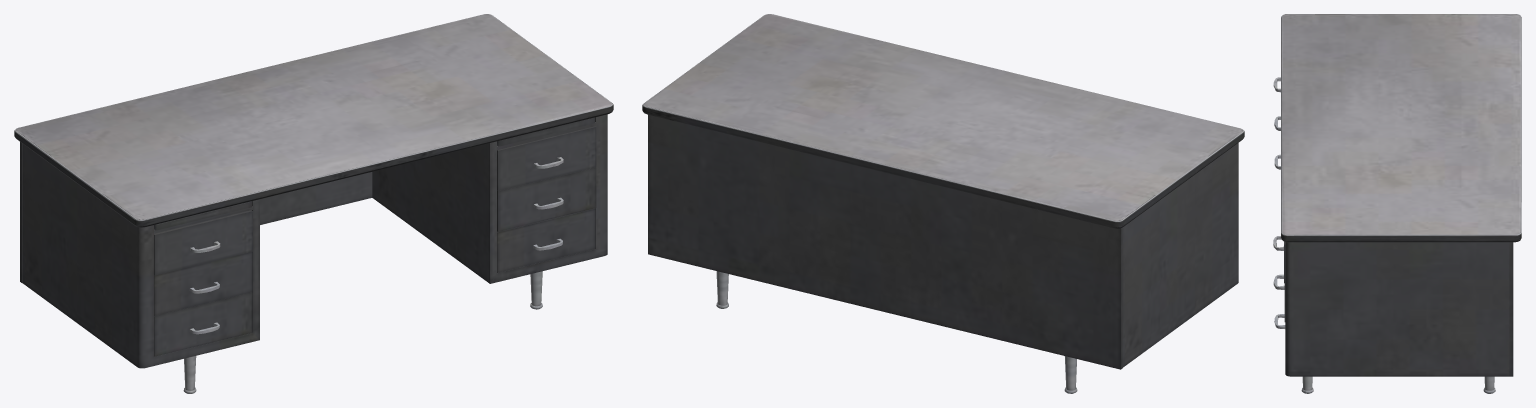
File: metal_office_desk.glb
3 renders of one model, left to right at view 1: azimuth 30°, elevation 25°; view 2: azimuth 150°, elevation 25°; view 3: azimuth 270°, elevation 25°, orthographic. The views are drawn at different scales.
Visible parts, largest first — view 1: metal_office_desk, metal_office_desk_drawer_04, metal_office_desk_drawer_01, metal_office_desk_drawer_02, metal_office_desk_drawer_03, metal_office_desk_drawer_06, metal_office_desk_drawer_05, metal_office_desk_tray_01, metal_office_desk_tray_02; view 2: metal_office_desk; view 3: metal_office_desk.
Boxes of the visible parts, left/top/right/bottom form: metal_office_desk: left=14, top=14, right=613, bottom=393; metal_office_desk_drawer_04: left=154, top=210, right=252, bottom=275; metal_office_desk_drawer_01: left=497, top=126, right=596, bottom=191; metal_office_desk_drawer_02: left=497, top=167, right=596, bottom=231; metal_office_desk_drawer_03: left=497, top=208, right=595, bottom=272; metal_office_desk_drawer_06: left=154, top=292, right=252, bottom=356; metal_office_desk_drawer_05: left=154, top=252, right=252, bottom=315; metal_office_desk_tray_01: left=154, top=201, right=252, bottom=230; metal_office_desk_tray_02: left=497, top=117, right=594, bottom=146; metal_office_desk: left=642, top=14, right=1244, bottom=393; metal_office_desk: left=1281, top=14, right=1521, bottom=393.
Size of the model in its own units: 2 by 0.7875 by 0.947.
1 material, 1 textured.
